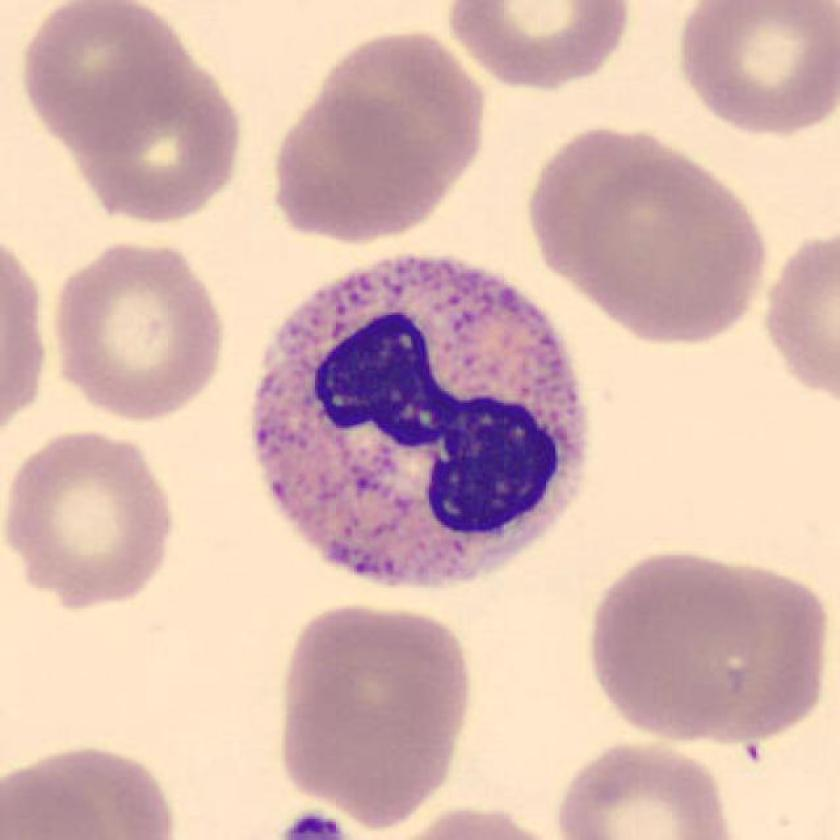neutrophil: (253, 260, 584, 584)
